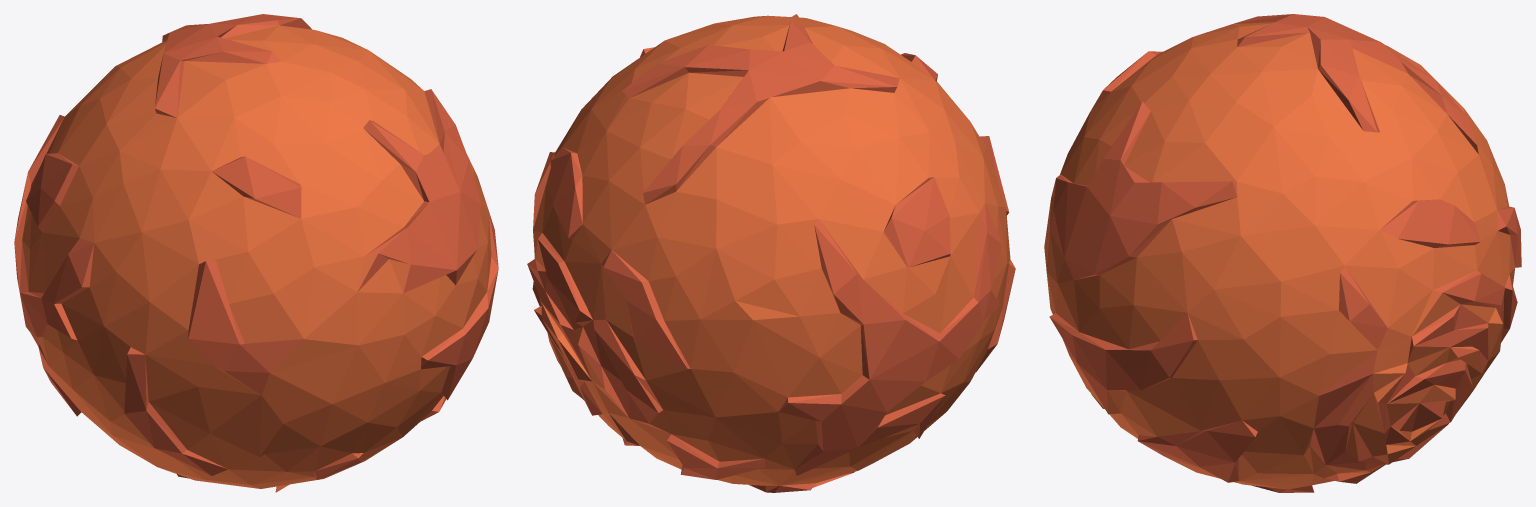
Rendered from Mars.glb.
The picture shows the model from 3 angles, left to right: view 1: azimuth 30°, elevation 25°; view 2: azimuth 150°, elevation 25°; view 3: azimuth 270°, elevation 25°; orthographic projection.
Parts seen in each view (by area): view 1: Mars; view 2: Mars; view 3: Mars.
Part boxes in pixels (bbox=[...]): Mars: bbox=[14, 14, 498, 492]; Mars: bbox=[527, 14, 1015, 492]; Mars: bbox=[1044, 14, 1521, 492].
Bounding box in the file's own units: 100 × 100 × 100.
Materials: 1 (1 with a texture image).
